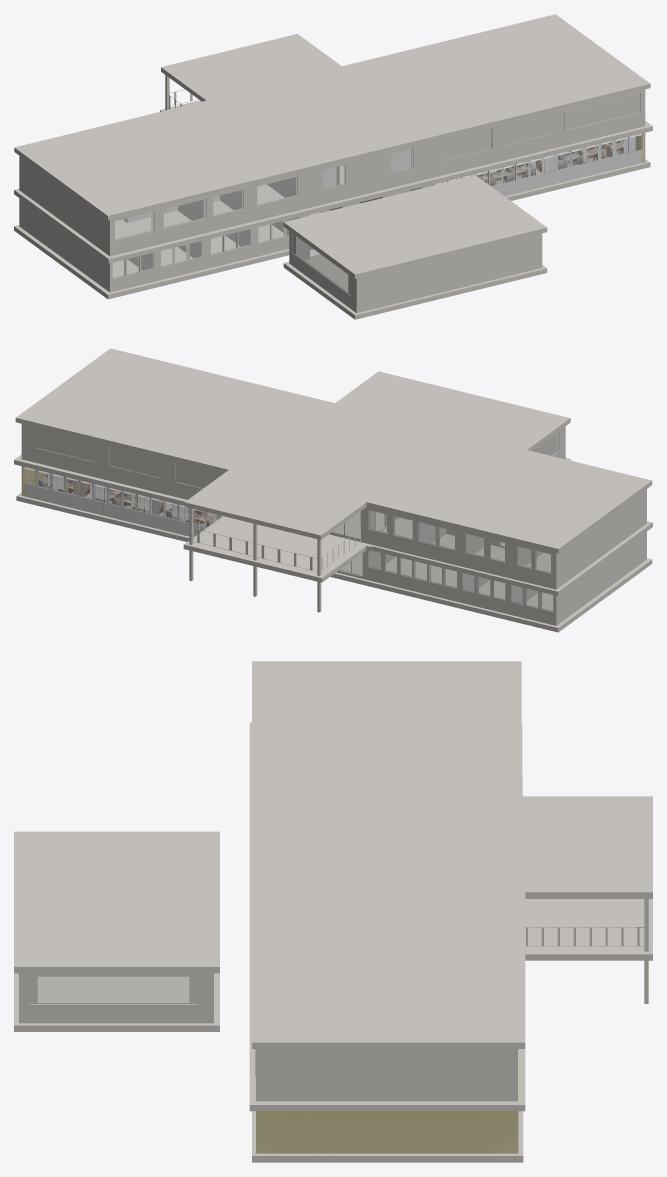
The model's file is founder_space_walk.glb.
3 views of the same model, one above another, from view 1: azimuth 30°, elevation 25°; view 2: azimuth 150°, elevation 25°; view 3: azimuth 270°, elevation 25° (orthographic). The views are drawn at different scales.
Visible parts, largest first — view 1: BEYOND_L2_SLAB, UPPER_in_zone, BEYOND_L0_WALL, BEYOND_L1_WALL, BEYOND_L0_SLAB, BEYOND_L1_SLAB, BEYOND_L1_GLASS, BEYOND_L0_GLASS, BAKE_wall_south, GLASS_zone, BAKE_furn_a, BAKE_furn_b (+3 smaller); view 2: BEYOND_L2_SLAB, UPPER_in_zone, BEYOND_L1_SLAB, BEYOND_L1_WALL, BEYOND_L0_WALL, BEYOND_L0_SLAB, BAKE_wall_north, BEYOND_L0_GLASS, BEYOND_L1_GLASS, GLASS_zone, BAKE_furn_b, BAKE_furn_a (+6 smaller); view 3: BEYOND_L2_SLAB, UPPER_in_zone, BEYOND_L1_SLAB, BEYOND_L0_SLAB, BAKE_wall_north, BEYOND_L0_WALL, BAKE_wall_south, BEYOND_L0_GLASS, BEYOND_L0_FRAME.
Boxes of the visible parts, x1,y1,x2,y2 form: BEYOND_L2_SLAB: (14, 14, 650, 278); UPPER_in_zone: (341, 16, 645, 178); BEYOND_L0_WALL: (19, 178, 542, 313); BEYOND_L1_WALL: (19, 141, 431, 256); BEYOND_L0_SLAB: (14, 159, 650, 319); BEYOND_L1_SLAB: (14, 100, 652, 263); BEYOND_L1_GLASS: (115, 149, 411, 238); BEYOND_L0_GLASS: (113, 187, 421, 291); BAKE_wall_south: (410, 133, 645, 196); GLASS_zone: (436, 134, 641, 185); BAKE_furn_a: (477, 140, 623, 185); BAKE_furn_b: (435, 133, 641, 184); BEYOND_L2_SLAB: (15, 348, 652, 553); UPPER_in_zone: (21, 350, 325, 499); BEYOND_L1_SLAB: (14, 454, 652, 596); BEYOND_L1_WALL: (329, 489, 646, 589); BEYOND_L0_WALL: (336, 426, 646, 625); BEYOND_L0_SLAB: (16, 458, 652, 632); BAKE_wall_north: (21, 466, 220, 536); BEYOND_L0_GLASS: (340, 434, 555, 610); BEYOND_L1_GLASS: (333, 510, 550, 572); GLASS_zone: (24, 467, 217, 526); BAKE_furn_b: (24, 467, 222, 522); BAKE_furn_a: (38, 474, 214, 526); BEYOND_L2_SLAB: (14, 661, 652, 1048); UPPER_in_zone: (255, 890, 518, 1101); BEYOND_L1_SLAB: (249, 722, 652, 1111); BEYOND_L0_SLAB: (14, 775, 523, 1162); BAKE_wall_north: (256, 1111, 518, 1153); BEYOND_L0_WALL: (19, 973, 213, 1023); BAKE_wall_south: (256, 1111, 466, 1153); BEYOND_L0_GLASS: (38, 977, 188, 1002); BEYOND_L0_FRAME: (29, 976, 197, 1003).
Bounding box in the file's own units: 38.22 × 5.6 × 27.
Materials: 11 (8 with a texture image).
